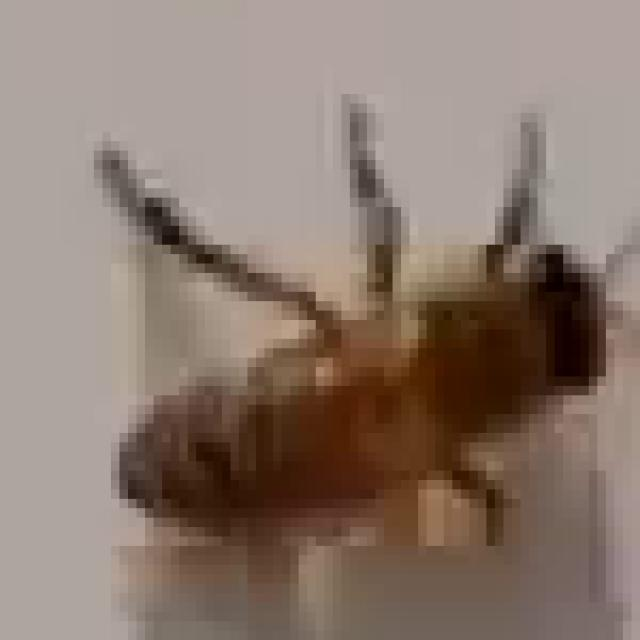honeybee: (77, 166, 640, 598)
